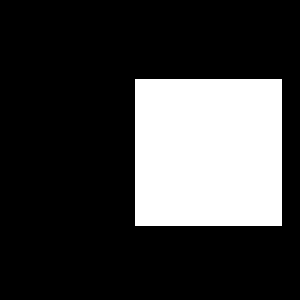circle: (135, 79, 282, 226)
